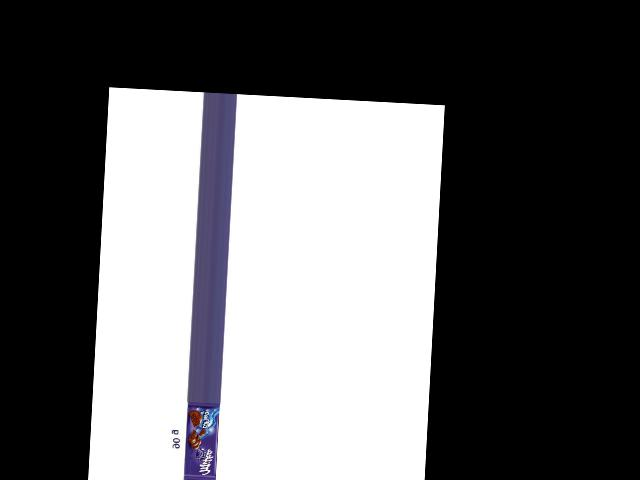chocolate: (183, 401, 220, 479)
